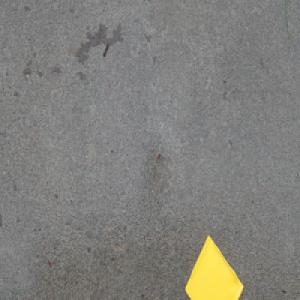PlasticPart: (182, 231, 243, 300)
